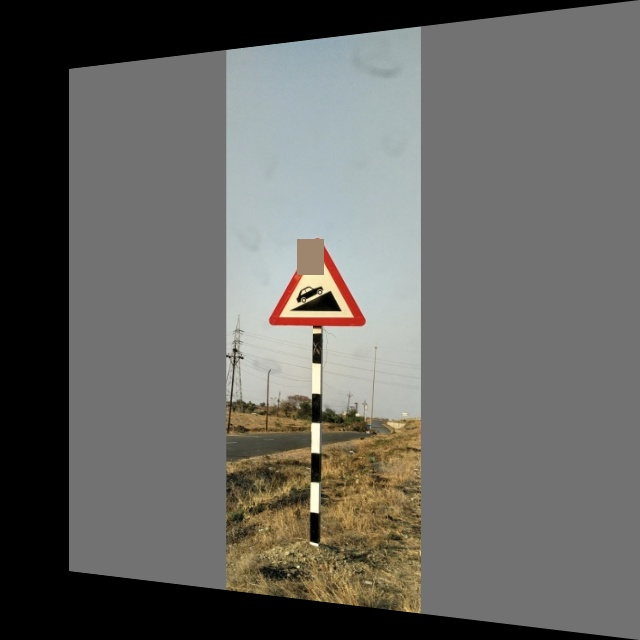Steep_Ascent: (272, 237, 368, 330)
